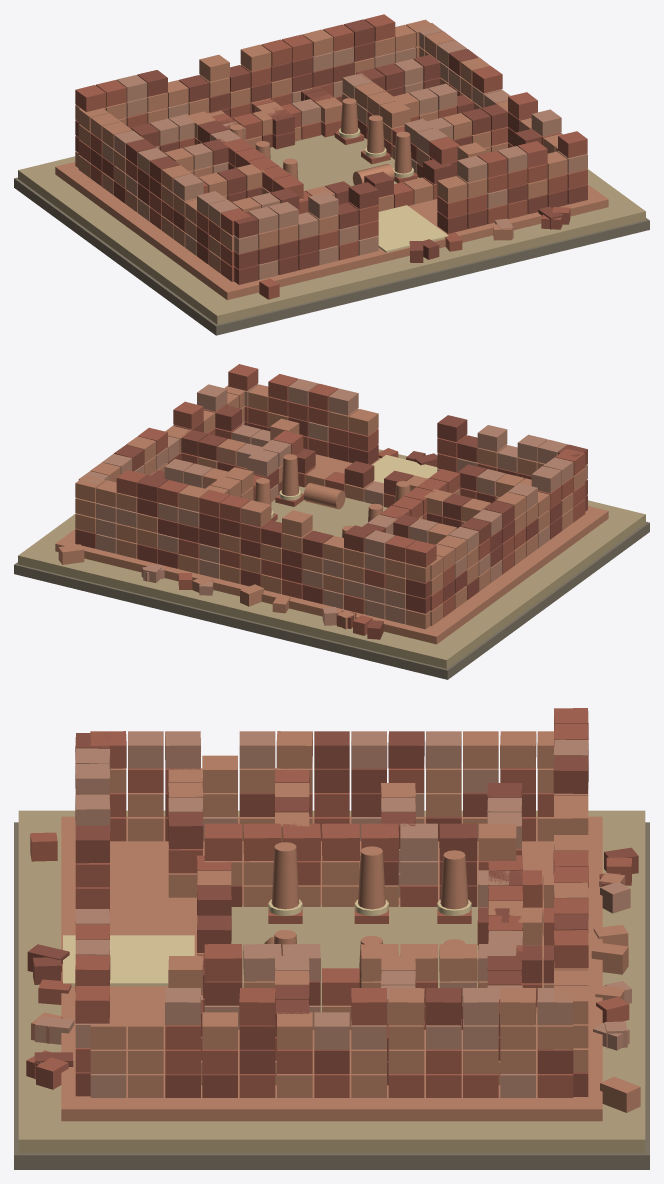
File: akyrtas.glb
3 renders of one model, top to bottom at view 1: azimuth 30°, elevation 25°; view 2: azimuth 150°, elevation 25°; view 3: azimuth 270°, elevation 25°, orthographic. The views are drawn at different scales.
Visible parts, largest first — view 1: Warm sandstone blocks, Dark sandstone, Red sandstone, Pink sandstone, Steppe earth, Foundation edging, Carved pale limestone; view 2: Warm sandstone blocks, Pink sandstone, Dark sandstone, Red sandstone, Steppe earth, Foundation edging, Carved pale limestone; view 3: Warm sandstone blocks, Red sandstone, Steppe earth, Pink sandstone, Dark sandstone, Foundation edging, Carved pale limestone.
Part boxes in pixels (x1=…): Warm sandstone blocks: x1=55, y1=19, x2=608, y2=300; Dark sandstone: x1=75, y1=19, x2=587, y2=284; Red sandstone: x1=75, y1=14, x2=587, y2=299; Pink sandstone: x1=102, y1=23, x2=587, y2=279; Steppe earth: x1=18, y1=134, x2=645, y2=324; Foundation edging: x1=14, y1=177, x2=649, y2=335; Carved pale limestone: x1=338, y1=128, x2=448, y2=252; Warm sandstone blocks: x1=55, y1=384, x2=608, y2=644; Pink sandstone: x1=78, y1=379, x2=587, y2=625; Dark sandstone: x1=75, y1=405, x2=587, y2=639; Red sandstone: x1=116, y1=364, x2=585, y2=635; Steppe earth: x1=18, y1=449, x2=645, y2=668; Foundation edging: x1=14, y1=521, x2=649, y2=679; Carved pale limestone: x1=271, y1=455, x2=437, y2=518; Warm sandstone blocks: x1=31, y1=731, x2=640, y2=1121; Red sandstone: x1=26, y1=708, x2=631, y2=1097; Steppe earth: x1=18, y1=810, x2=645, y2=1153; Pink sandstone: x1=35, y1=731, x2=631, y2=1097; Dark sandstone: x1=27, y1=731, x2=638, y2=1097; Foundation edging: x1=14, y1=822, x2=649, y2=1169; Carved pale limestone: x1=63, y1=899, x2=471, y2=987.
Size of the model in its own units: 8.3 by 1.87 by 6.7.
